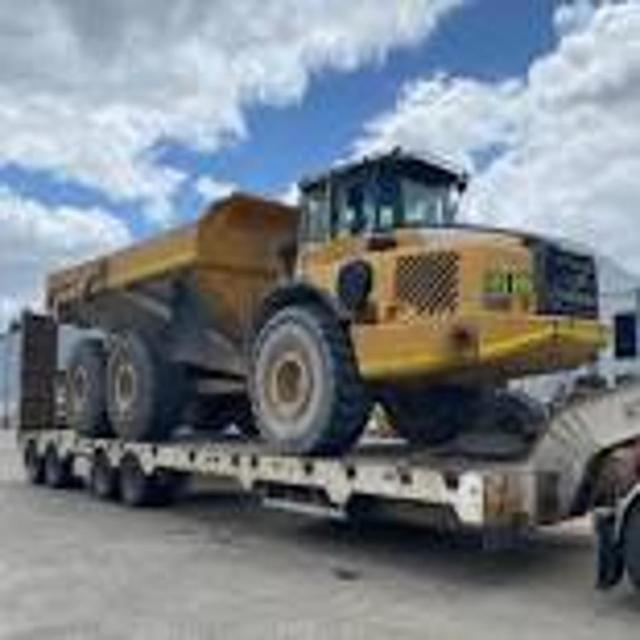dump_truck: (36, 138, 609, 454)
